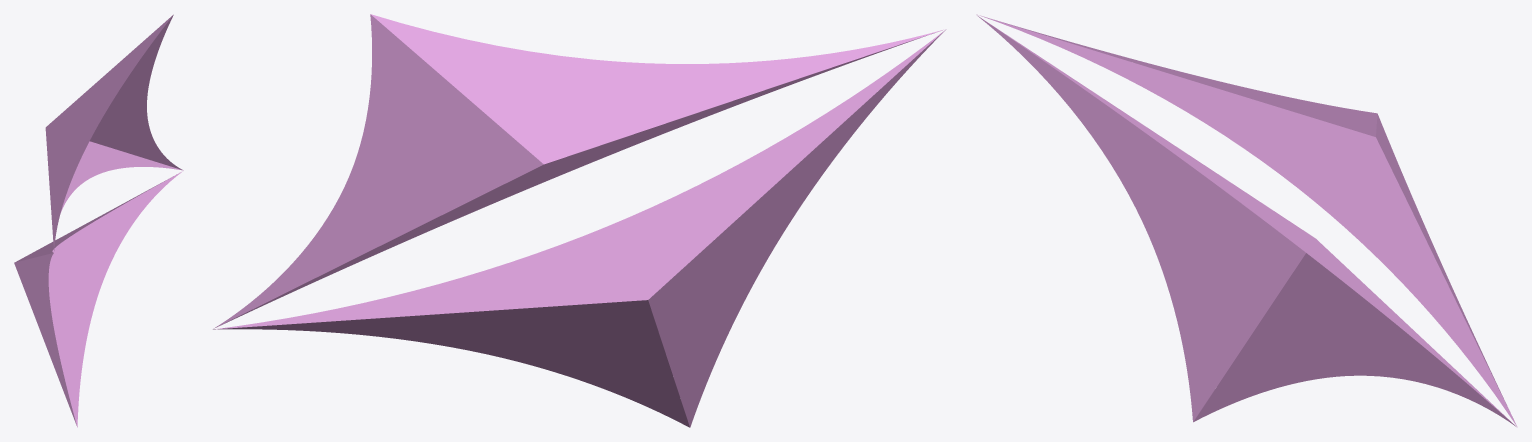
Rendered from TYPE4-4.glb.
The picture shows the model from 3 angles, left to right: view 1: azimuth 30°, elevation 25°; view 2: azimuth 150°, elevation 25°; view 3: azimuth 270°, elevation 25°; orthographic projection. The views are drawn at different scales.
Visible parts, largest first — view 1: TYPE4-4 (×6); view 2: TYPE4-4 (×6); view 3: TYPE4-4 (×6).
Part boxes in pixels (x1,y1,x2,y2): TYPE4-4 (×6): (14, 15, 182, 427); TYPE4-4 (×6): (213, 14, 945, 427); TYPE4-4 (×6): (977, 15, 1517, 427).
Bounding box in the file's own units: 6.26 × 5.65 × 6.7.
